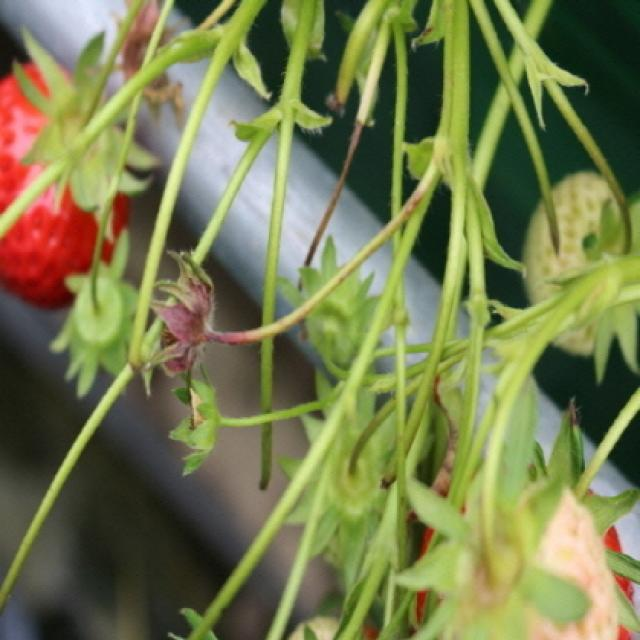Gray Mold: (146, 248, 245, 375)
